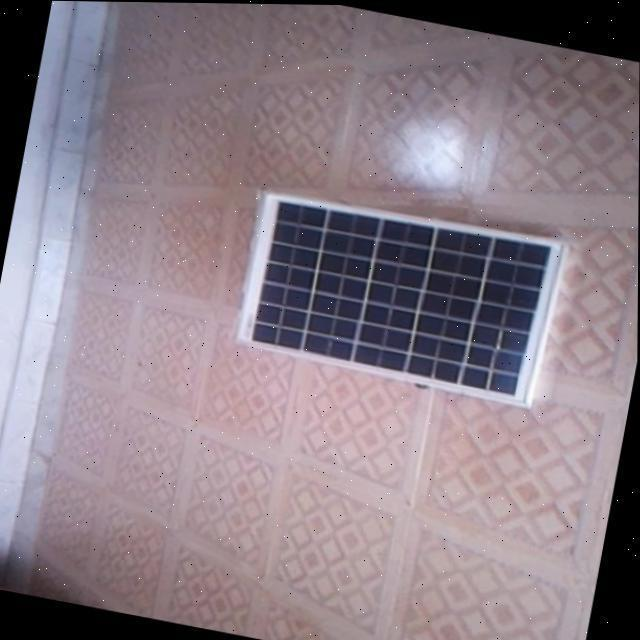Normal Solar Panel: (233, 180, 565, 406)
